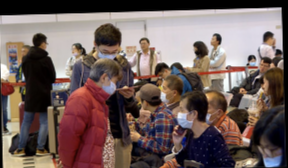mask_weared_incorrect: (69, 47, 80, 57)
with_mask: (175, 105, 193, 131), (101, 77, 118, 97), (158, 84, 171, 106), (96, 48, 119, 60), (193, 47, 201, 56), (248, 59, 257, 66)
without_mask: (262, 78, 271, 95), (259, 61, 270, 73), (158, 69, 169, 79), (269, 61, 278, 70), (139, 41, 147, 51), (209, 36, 216, 46), (20, 49, 26, 56)
